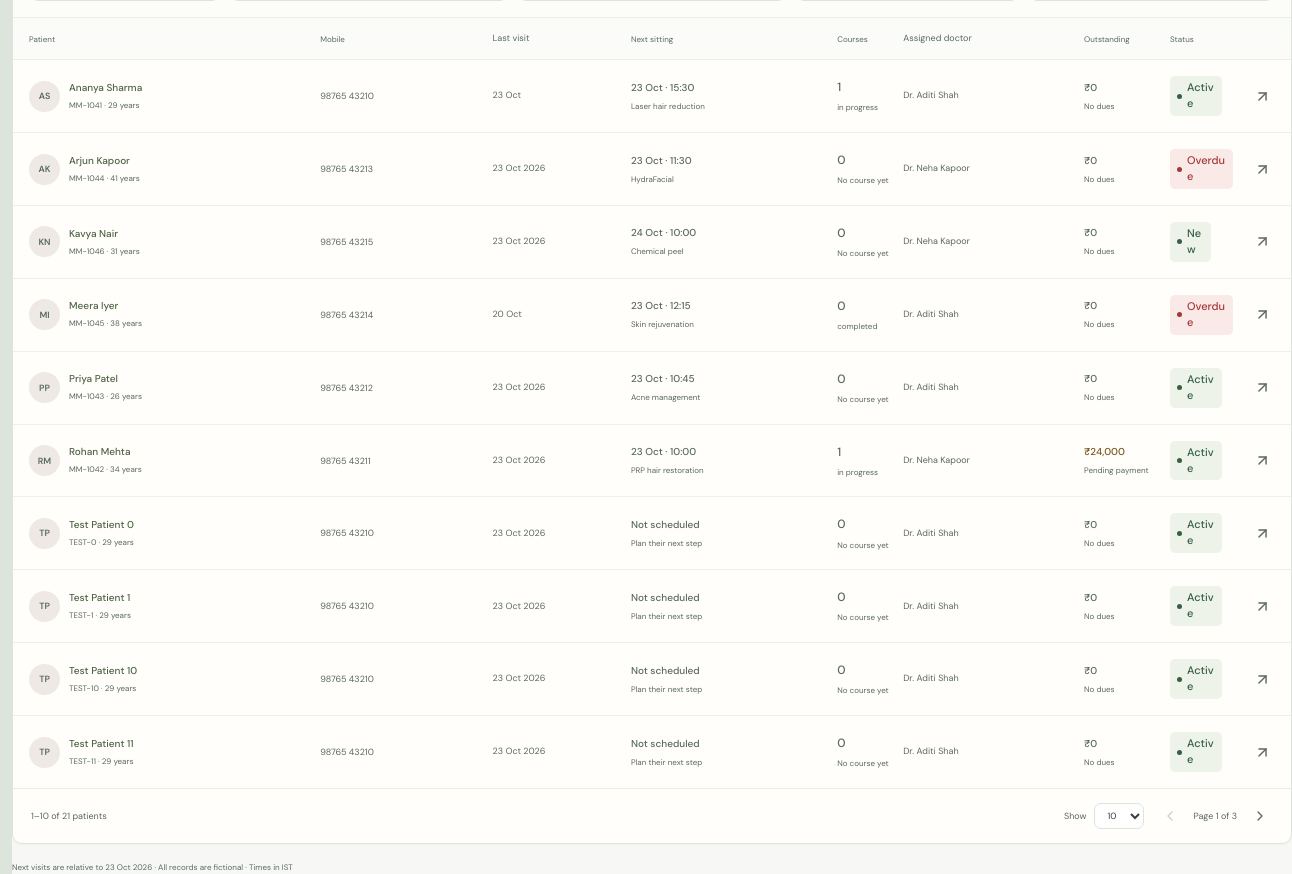
patient directory › paginates larger directories and changes the page limit
(page scrolled)
Expected: the text "Page 1 of 3" is shown, [1193,810,1237,822]
Step 1. Click the button named "Next patients page" → coordinates (1260, 816), box [1247,803,1273,829]
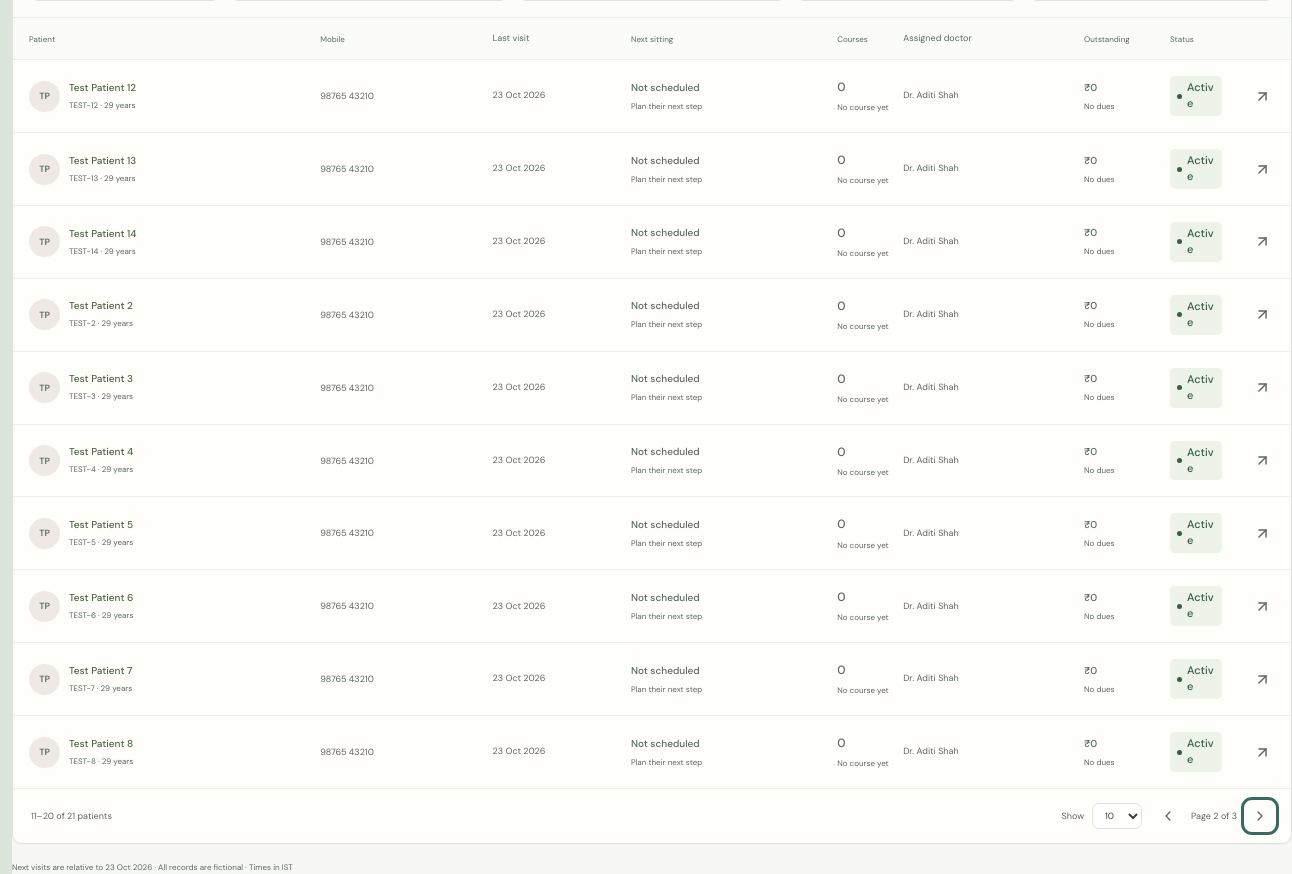
Expected: the text "Page 2 of 3" is shown, [1191,810,1237,822]
Step 2. Select "25" in the dropdown named "Patients per page" → coordinates (1117, 816), box [1092,803,1142,829]
(page scrolled)
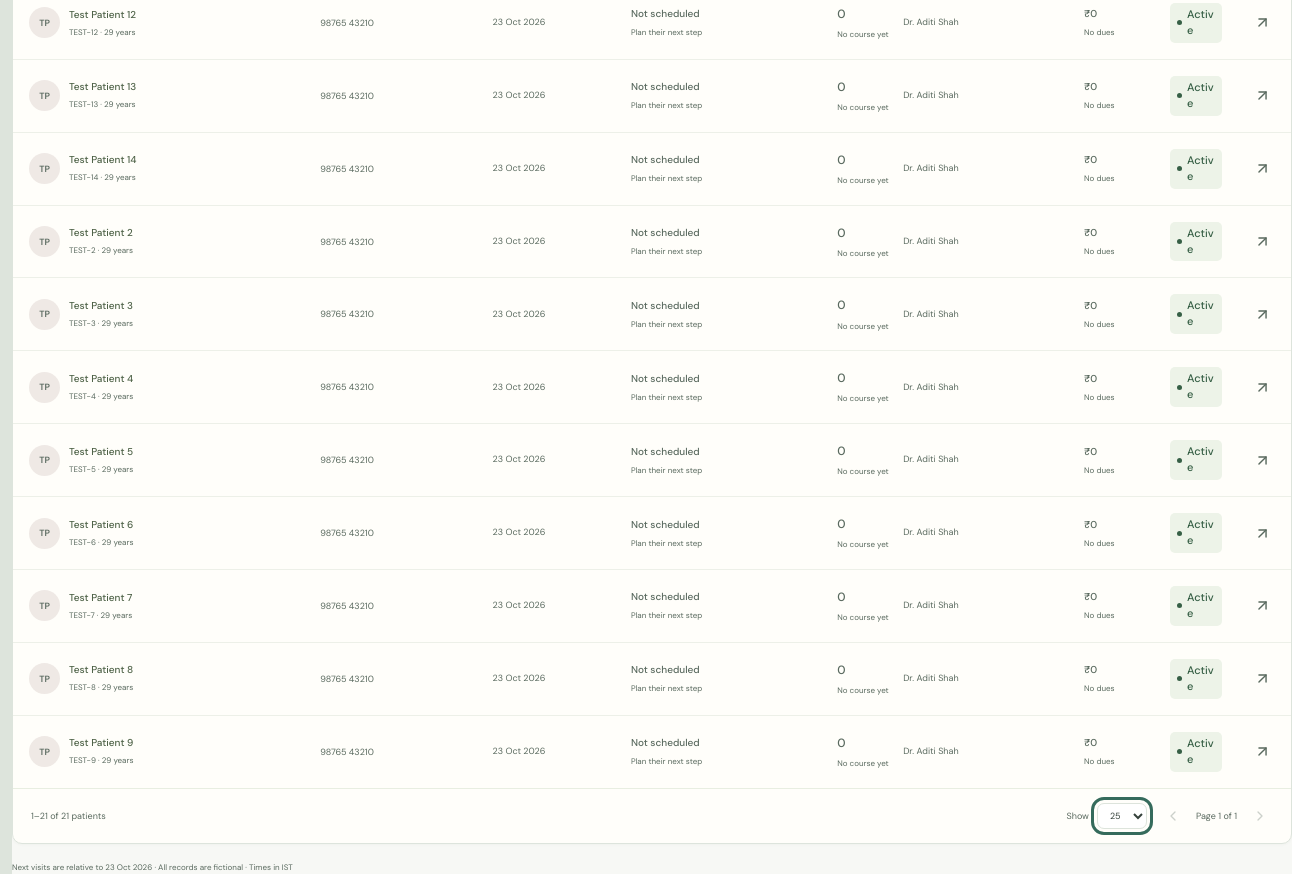
Expected: the text "Page 1 of 1" is shown, [1196,810,1237,822]
